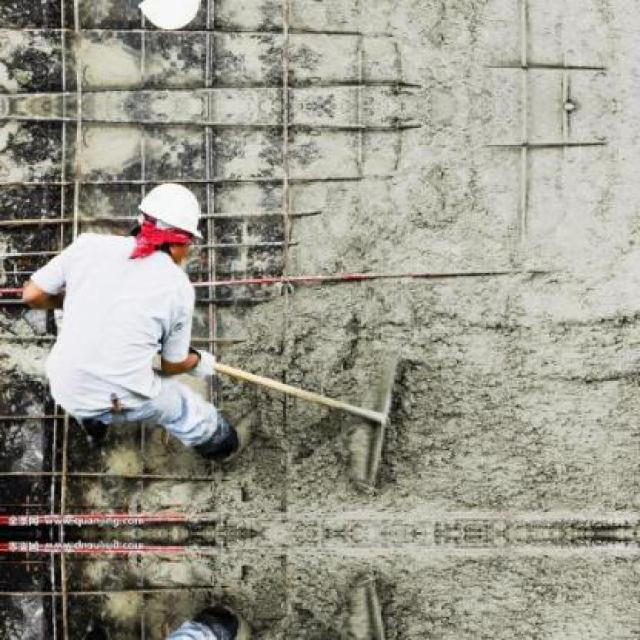helmet: (127, 178, 208, 268), (126, 0, 209, 35)
